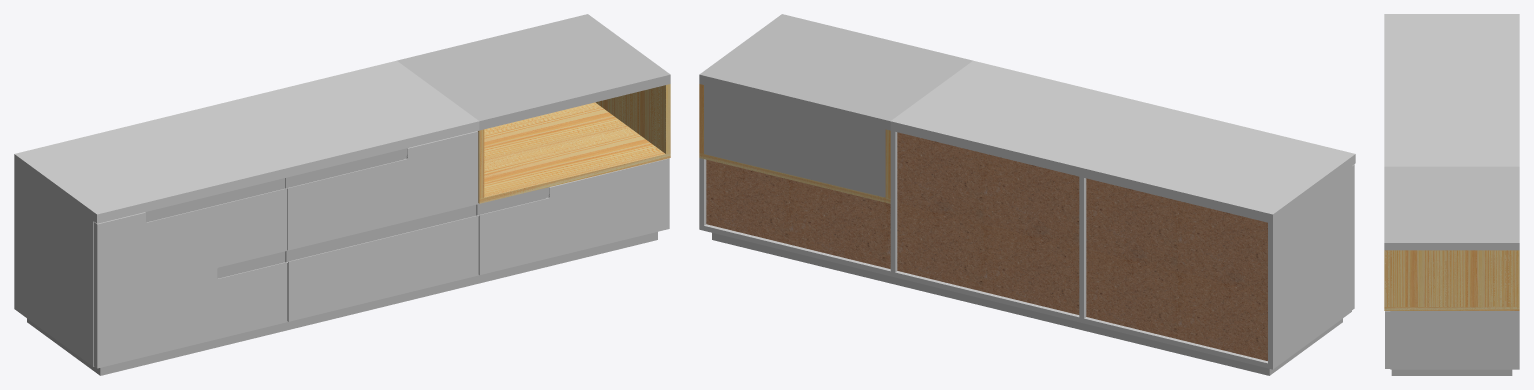
The model's file is shelf1.dae.
3 views of the same model, side by side, from view 1: azimuth 30°, elevation 25°; view 2: azimuth 150°, elevation 25°; view 3: azimuth 270°, elevation 25° (orthographic). The views are drawn at different scales.
Visible parts, largest first — view 1: Group_1, Group_19, Group_2, Group_14, Group_18, Group_16, Group_10, Group_5 (×2), Group_24, Group_4, Group_15, Group_21 (+3 smaller); view 2: SketchUp (×3), Group_1, Group_2, Group_6, Group_10, Group_11, Group_23, Group_9, Group_8, Group_5; view 3: Group_1, Group_2, Group_4, Group_7, Group_22, Group_11, Group_5, Group_14.
Part boxes in pixels (bbox=[...]): Group_1: bbox=[14, 60, 479, 223]; Group_19: bbox=[94, 188, 287, 368]; Group_2: bbox=[397, 14, 670, 130]; Group_14: bbox=[478, 158, 669, 275]; Group_18: bbox=[287, 131, 478, 250]; Group_16: bbox=[287, 215, 478, 321]; Group_10: bbox=[14, 163, 93, 361]; Group_5 (×2): bbox=[478, 102, 670, 203]; Group_24: bbox=[100, 232, 657, 375]; Group_4: bbox=[595, 84, 670, 153]; Group_15: bbox=[285, 205, 476, 262]; Group_21: bbox=[145, 178, 285, 222]; SketchUp (×3): bbox=[706, 132, 1267, 360]; Group_1: bbox=[890, 60, 1355, 223]; Group_2: bbox=[699, 14, 972, 130]; Group_6: bbox=[704, 85, 885, 197]; Group_10: bbox=[1268, 166, 1351, 364]; Group_11: bbox=[699, 224, 1351, 369]; Group_23: bbox=[712, 233, 1269, 375]; Group_9: bbox=[1079, 176, 1086, 318]; Group_8: bbox=[890, 131, 897, 272]; Group_5: bbox=[699, 153, 890, 203]; Group_1: bbox=[1384, 14, 1519, 166]; Group_2: bbox=[1384, 166, 1519, 250]; Group_4: bbox=[1384, 250, 1519, 306]; Group_7: bbox=[1390, 311, 1519, 365]; Group_22: bbox=[1391, 369, 1512, 375]; Group_11: bbox=[1390, 365, 1519, 369]; Group_5: bbox=[1384, 307, 1519, 310]; Group_14: bbox=[1385, 311, 1390, 368].
Bounding box in the file's own units: 70.87 × 17.72 × 19.69.
